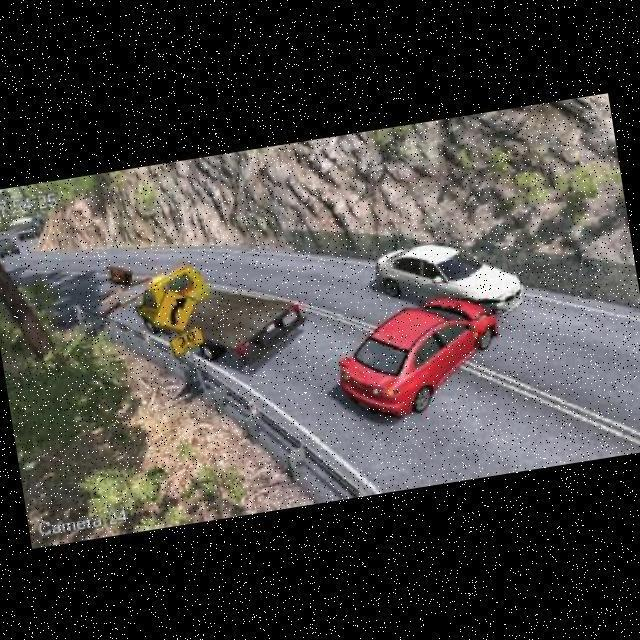accident: (321, 224, 540, 410)
